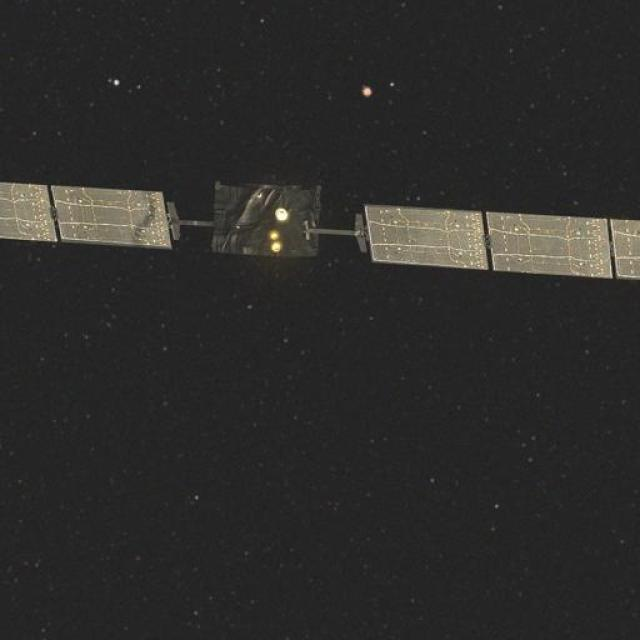smart_1: (3, 164, 615, 312)
